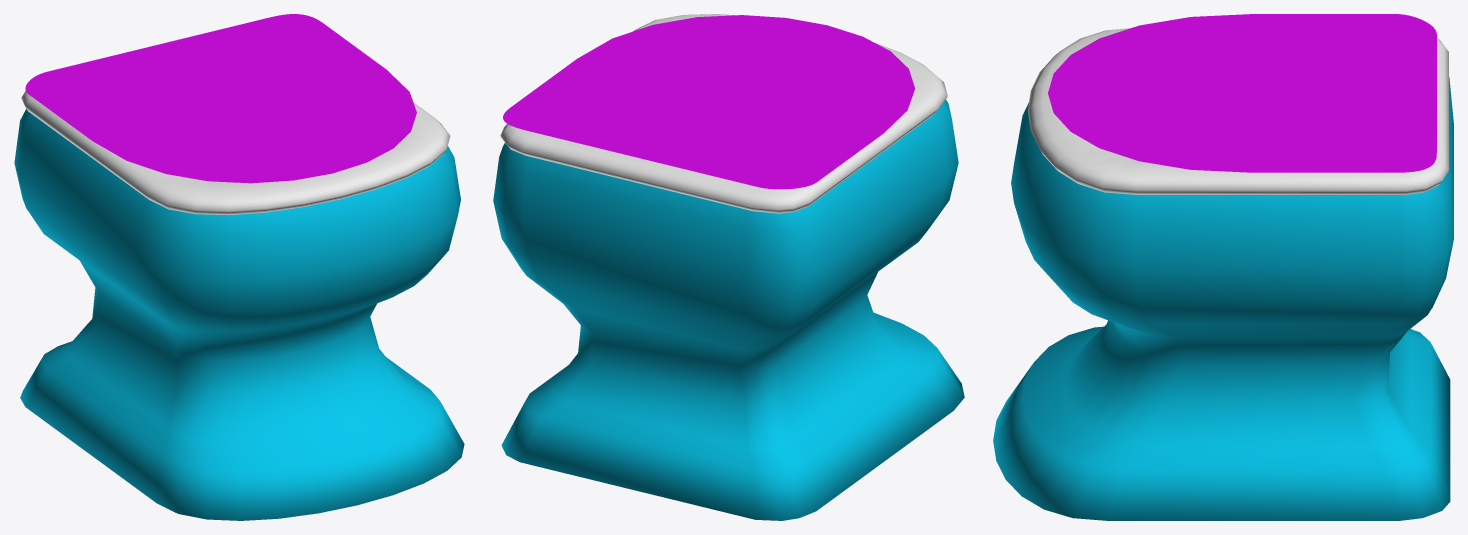
File: TOILETS_v01.glb
3 views of the same model, side by side, from view 1: azimuth 30°, elevation 25°; view 2: azimuth 150°, elevation 25°; view 3: azimuth 270°, elevation 25° (orthographic). The views are drawn at different scales.
Parts seen in each view (by area): view 1: BézierCircle, Rectangle.003, BézierCircle.001; view 2: BézierCircle, Rectangle.003, BézierCircle.001; view 3: BézierCircle, Rectangle.003, BézierCircle.001.
Part boxes in pixels (x1=…): BézierCircle: x1=14, y1=109, x2=464, y2=520; Rectangle.003: x1=25, y1=14, x2=416, y2=183; BézierCircle.001: x1=21, y1=91, x2=450, y2=215; BézierCircle: x1=493, y1=100, x2=964, y2=520; Rectangle.003: x1=503, y1=15, x2=914, y2=189; BézierCircle.001: x1=500, y1=14, x2=947, y2=213; BézierCircle: x1=993, y1=77, x2=1453, y2=520; Rectangle.003: x1=1048, y1=14, x2=1436, y2=172; BézierCircle.001: x1=1027, y1=28, x2=1448, y2=195.
Size of what is drawn, in the model's own units: 1.14 by 1.09 by 1.31.
